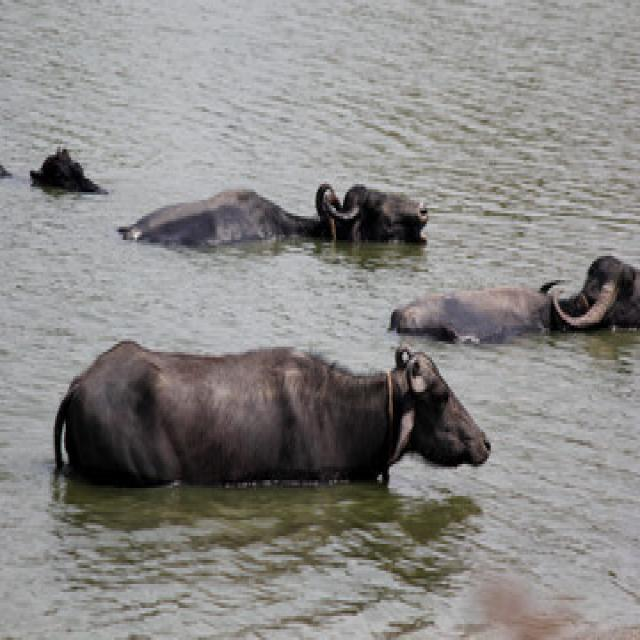Buffalo: (42, 330, 487, 481)
